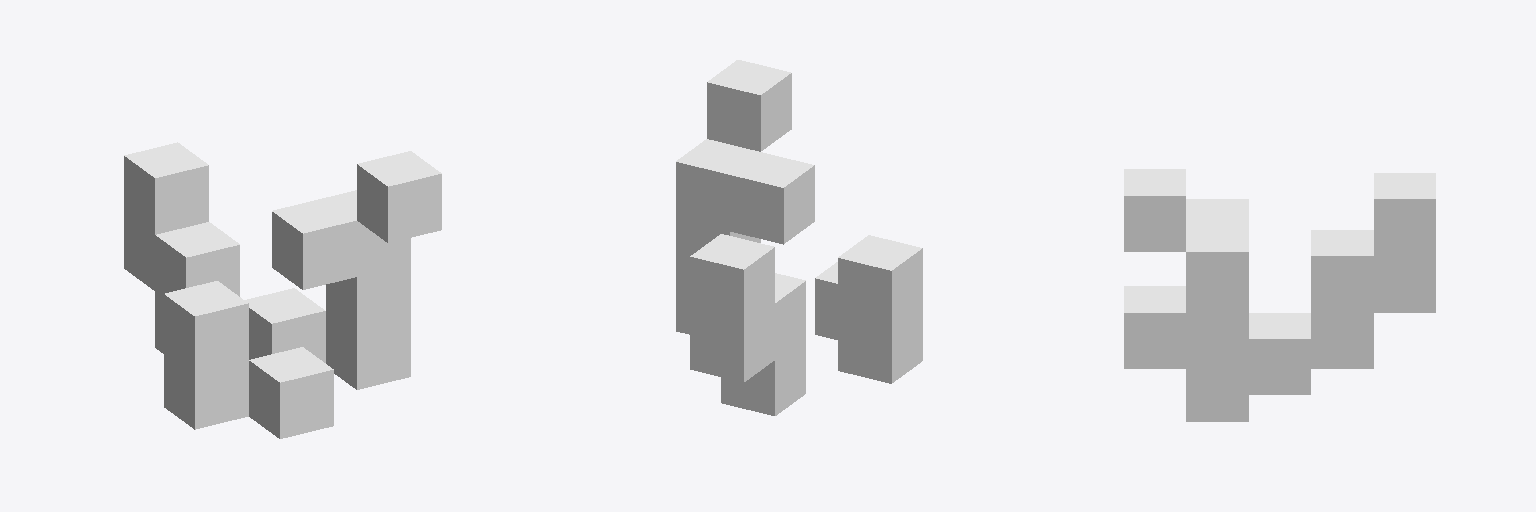
The model's file is Potato_1.obj.
3 renders of one model, left to right at view 1: azimuth 30°, elevation 25°; view 2: azimuth 150°, elevation 25°; view 3: azimuth 270°, elevation 25°, orthographic.
Visible parts, largest first — view 1: object 1; view 2: object 1; view 3: object 1.
Boxes of the visible parts, x1=… form: object 1: x1=124, y1=142, x2=441, y2=438; object 1: x1=676, y1=60, x2=922, y2=415; object 1: x1=1124, y1=169, x2=1435, y2=421.
Size of the model in its own units: 0.4 by 0.4 by 0.5.